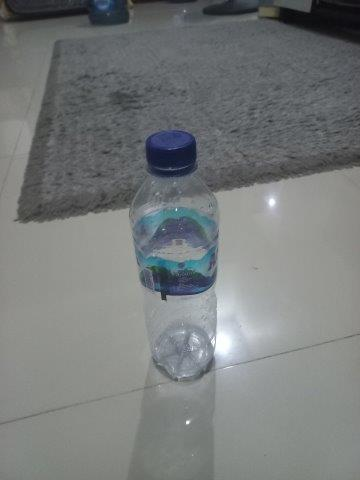botolplastik: (129, 130, 218, 382)
